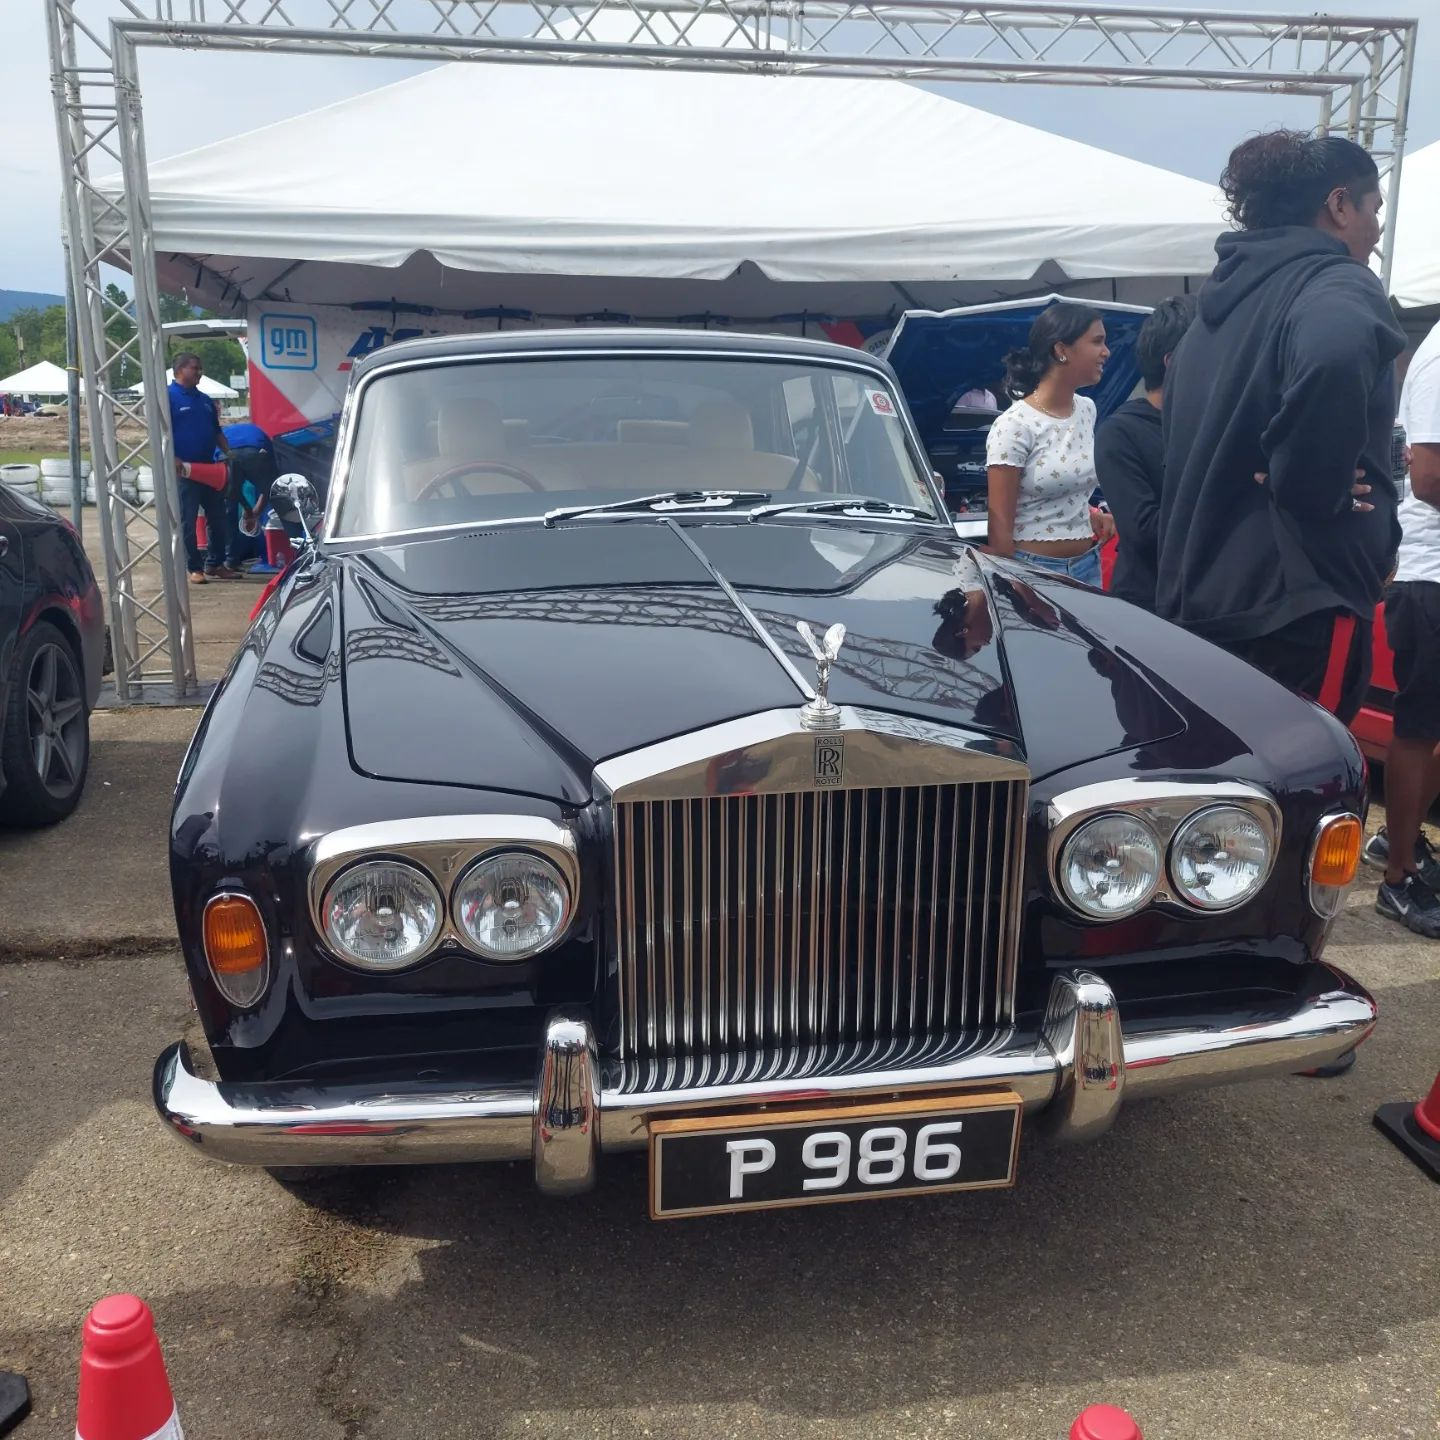License-Plate: (657, 1136, 1006, 1212)
